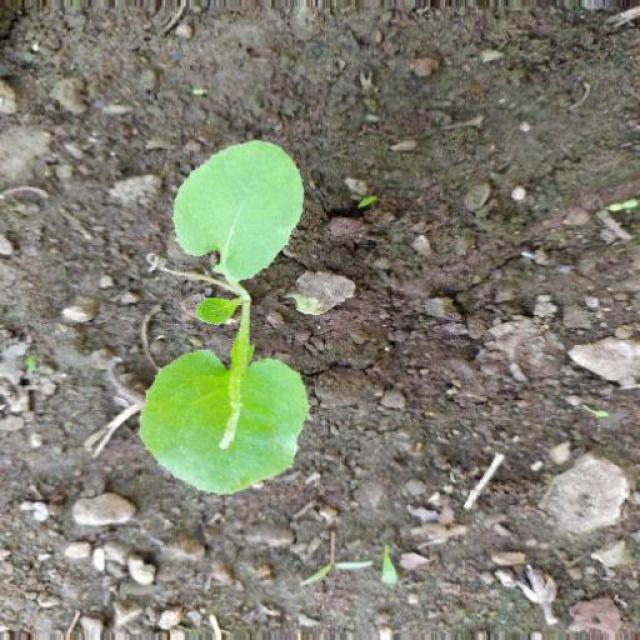weed: (132, 118, 314, 516)
